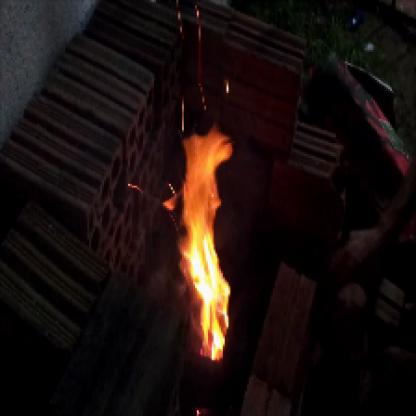Fire: (165, 108, 247, 368)
